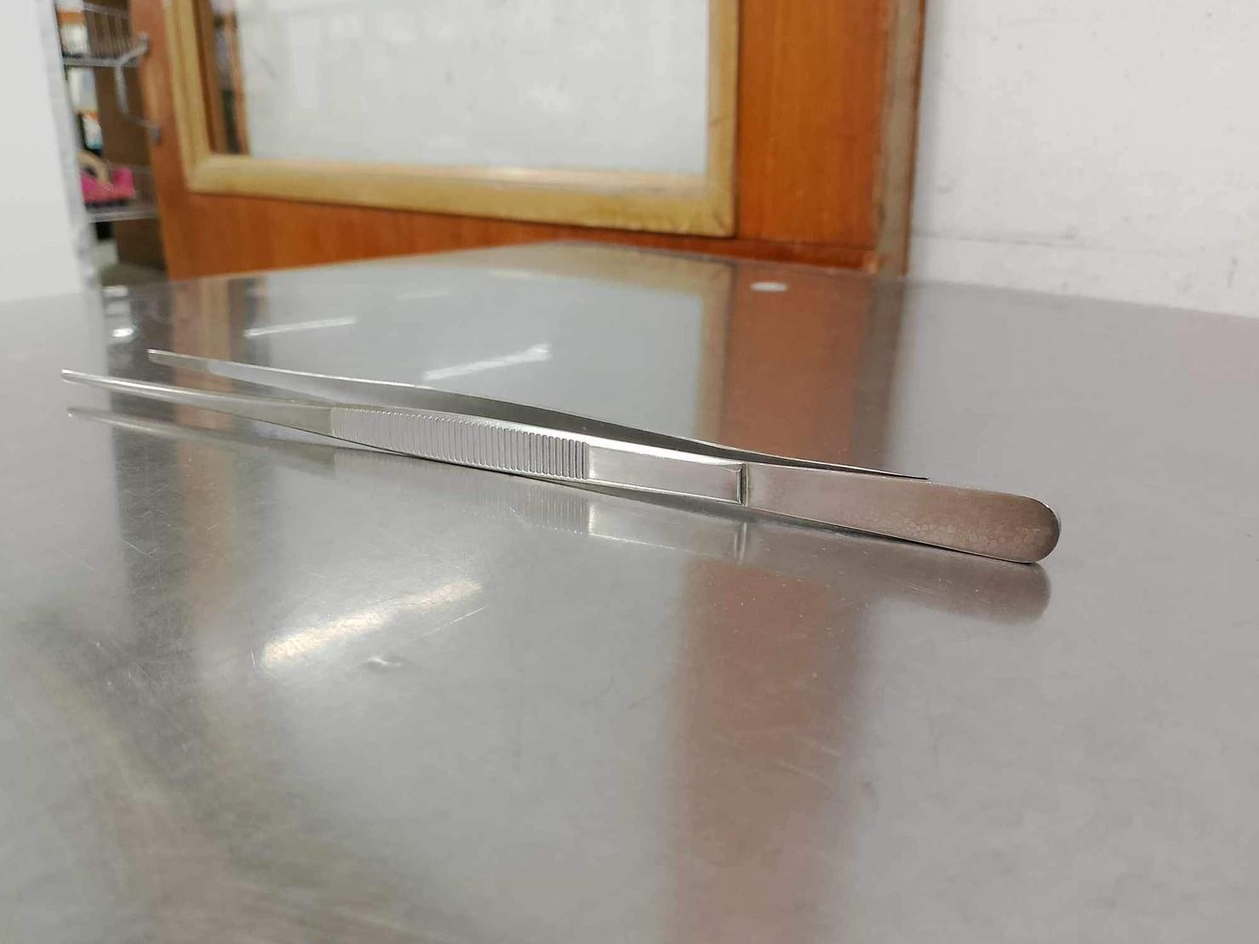Pathological: (44, 340, 1067, 940)
Sharps: (60, 344, 1061, 568)
